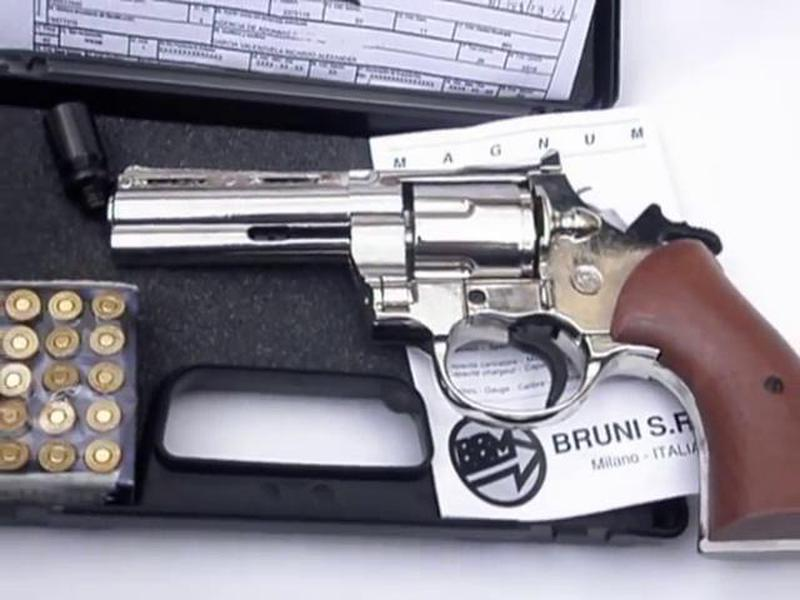Revolver: (109, 138, 800, 557)
